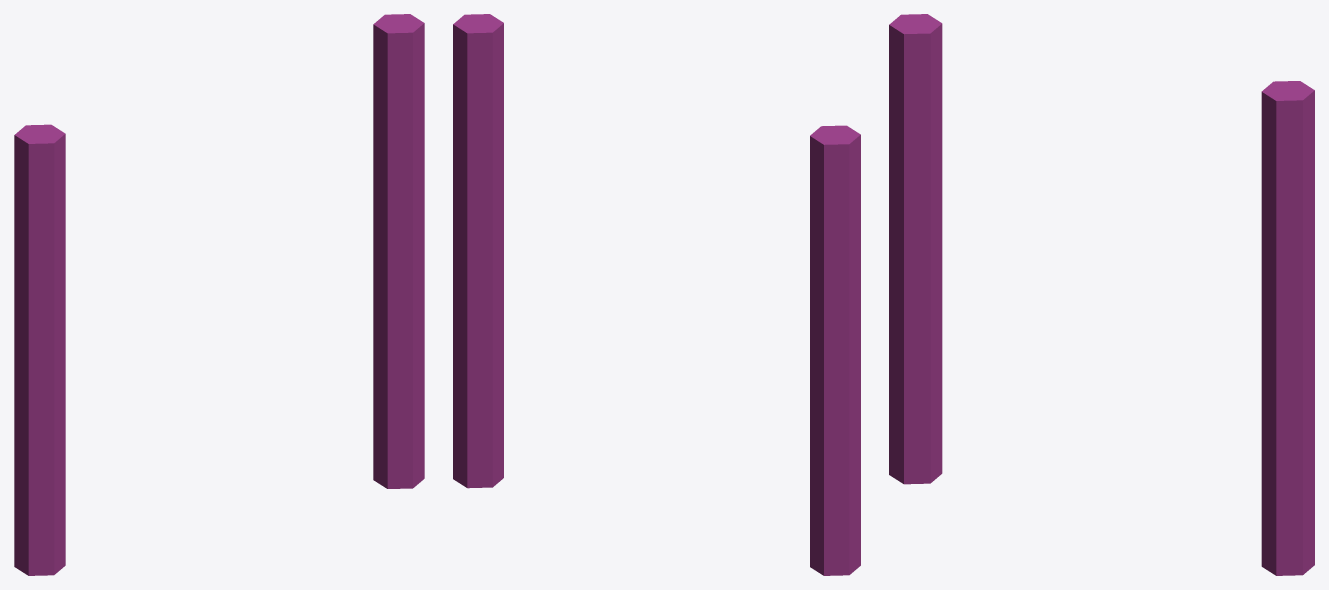
File: SM_Bld_Gate_02_Collision.fbx
The picture shows the model from 3 angles, left to right: view 1: azimuth 30°, elevation 25°; view 2: azimuth 150°, elevation 25°; view 3: azimuth 330°, elevation 25°; orthographic projection. The views are drawn at different scales.
Parts seen in each view (by area): view 1: SM_Bld_Gate_02_Collision; view 2: SM_Bld_Gate_02_Collision; view 3: SM_Bld_Gate_02_Collision.
Part boxes in pixels (box(x1,y1,x2,y2)): SM_Bld_Gate_02_Collision: box(14, 14, 424, 575); SM_Bld_Gate_02_Collision: box(453, 14, 860, 575); SM_Bld_Gate_02_Collision: box(889, 14, 1314, 575).
Bounding box in the file's own units: 817 × 894 × 93.6.
